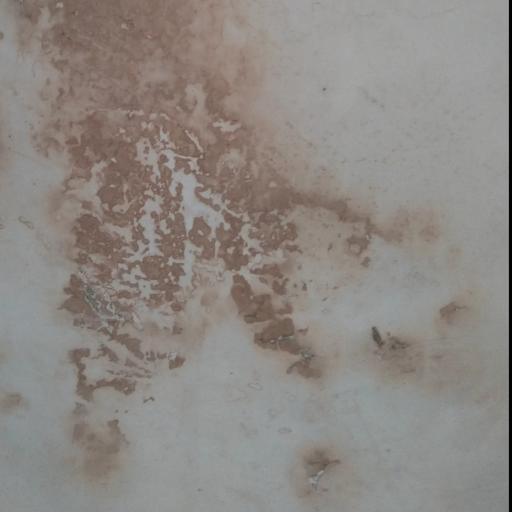stain: (0, 0, 511, 512)
